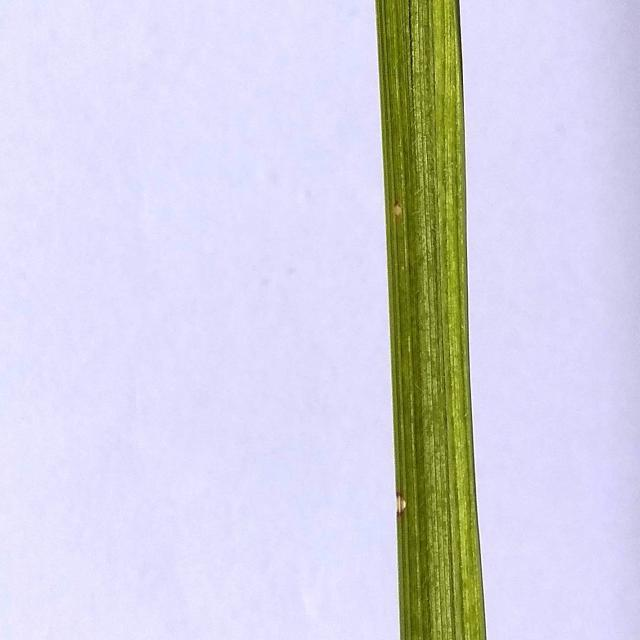Blast: (395, 492, 410, 515), (392, 198, 406, 220)
